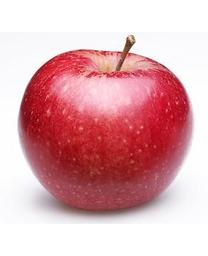apple: (16, 39, 193, 211)
